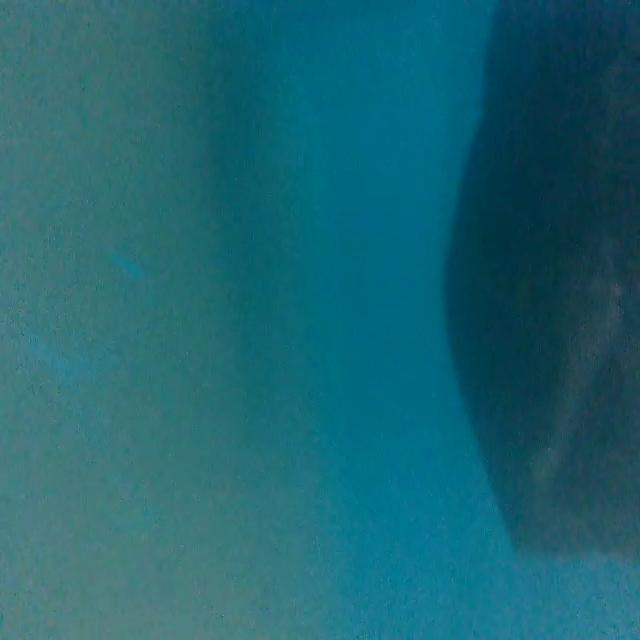plastic bags: (475, 0, 640, 571)
